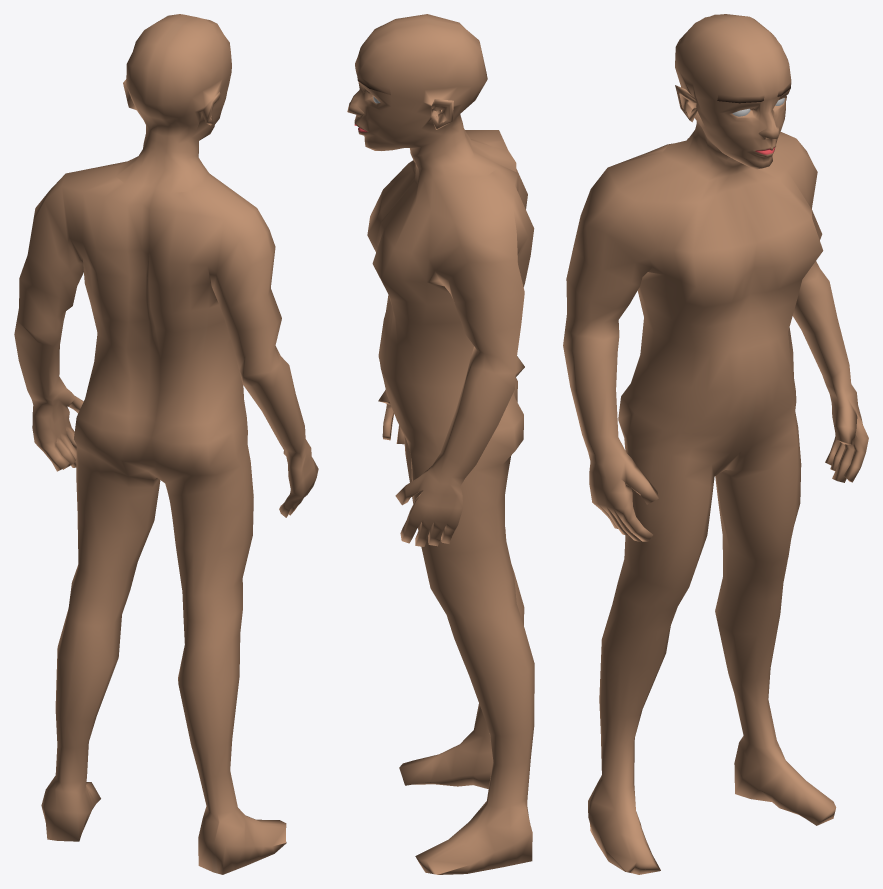
File: boneco17.glb
The picture shows the model from 3 angles, left to right: view 1: azimuth 30°, elevation 25°; view 2: azimuth 150°, elevation 25°; view 3: azimuth 270°, elevation 25°; orthographic projection. The views are drawn at different scales.
Parts seen in each view (by area): view 1: Plane.015; view 2: Plane.015; view 3: Plane.015.
Boxes of the visible parts, x1,y1,x2,y2 form: Plane.015: [14, 14, 318, 874]; Plane.015: [347, 14, 534, 874]; Plane.015: [563, 14, 868, 874].
Bounding box in the file's own units: 0.9841 × 3.47 × 1.17.
